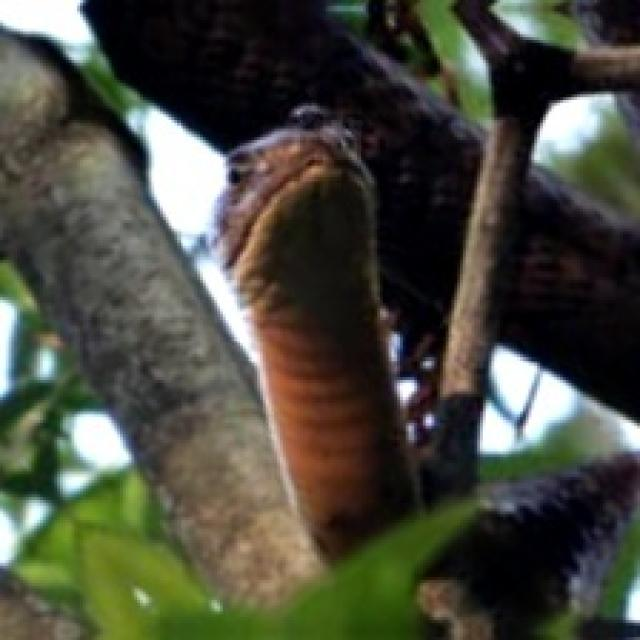king cobra: (217, 129, 411, 554)
